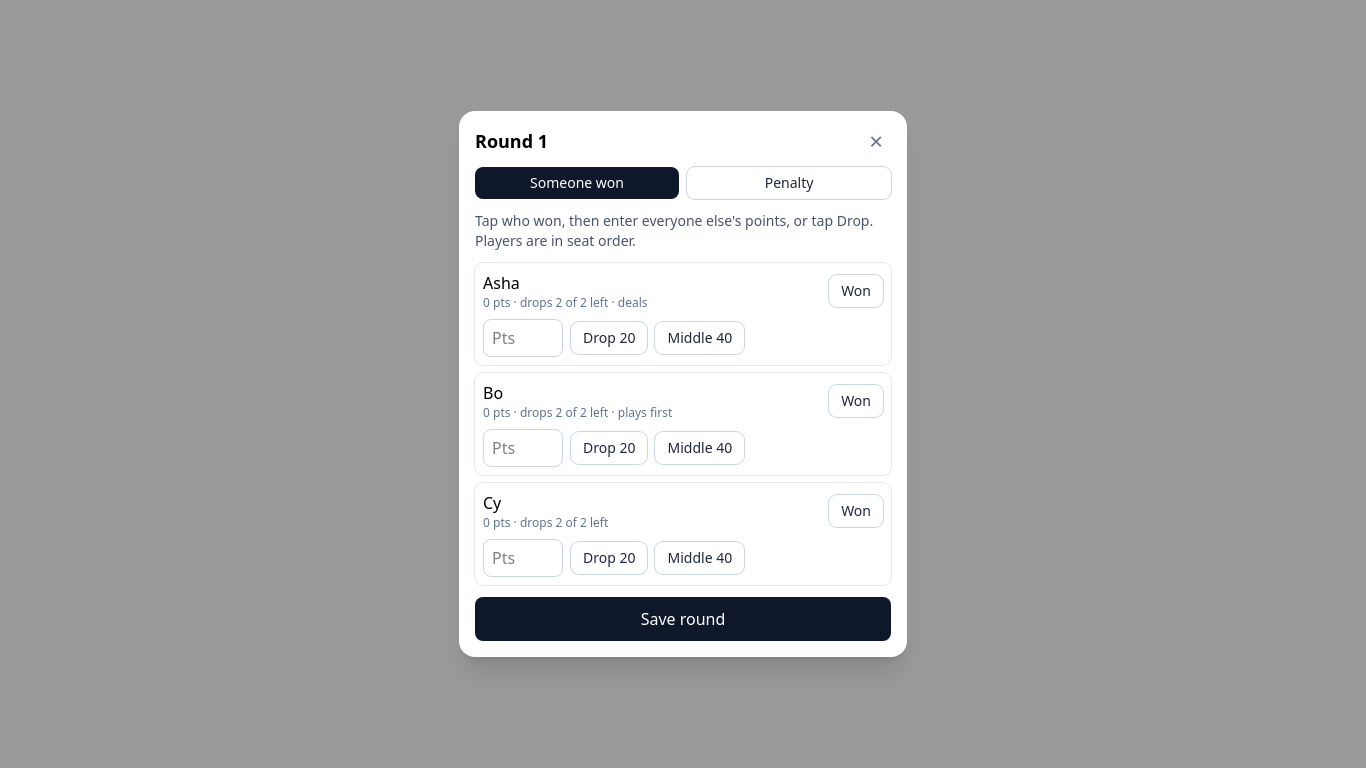
Test: RoundEntry › shows the reason when saving fails
Click the button "Won" in the row of "· deals": (856, 291) [829,275,883,307]
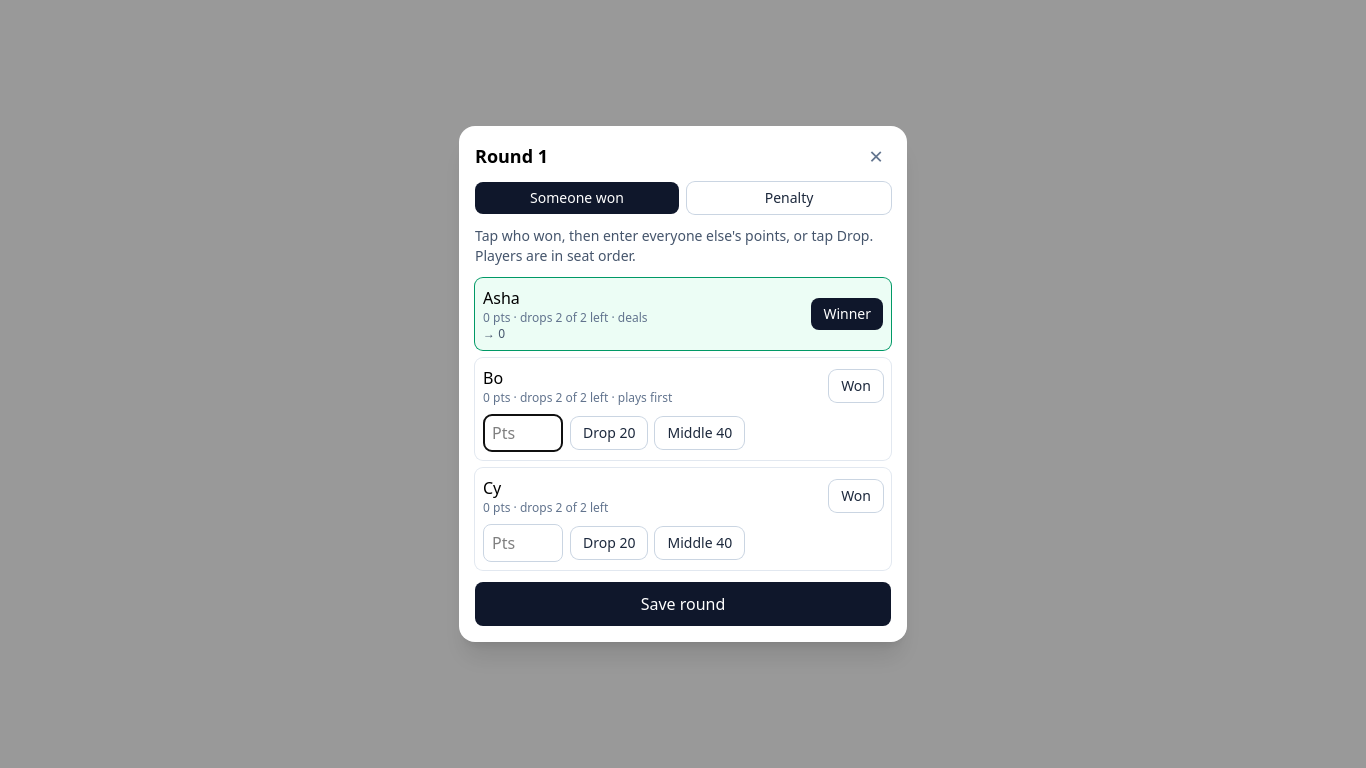
In the field named "Bo points": (523, 433) [483,414,563,452], type "10"
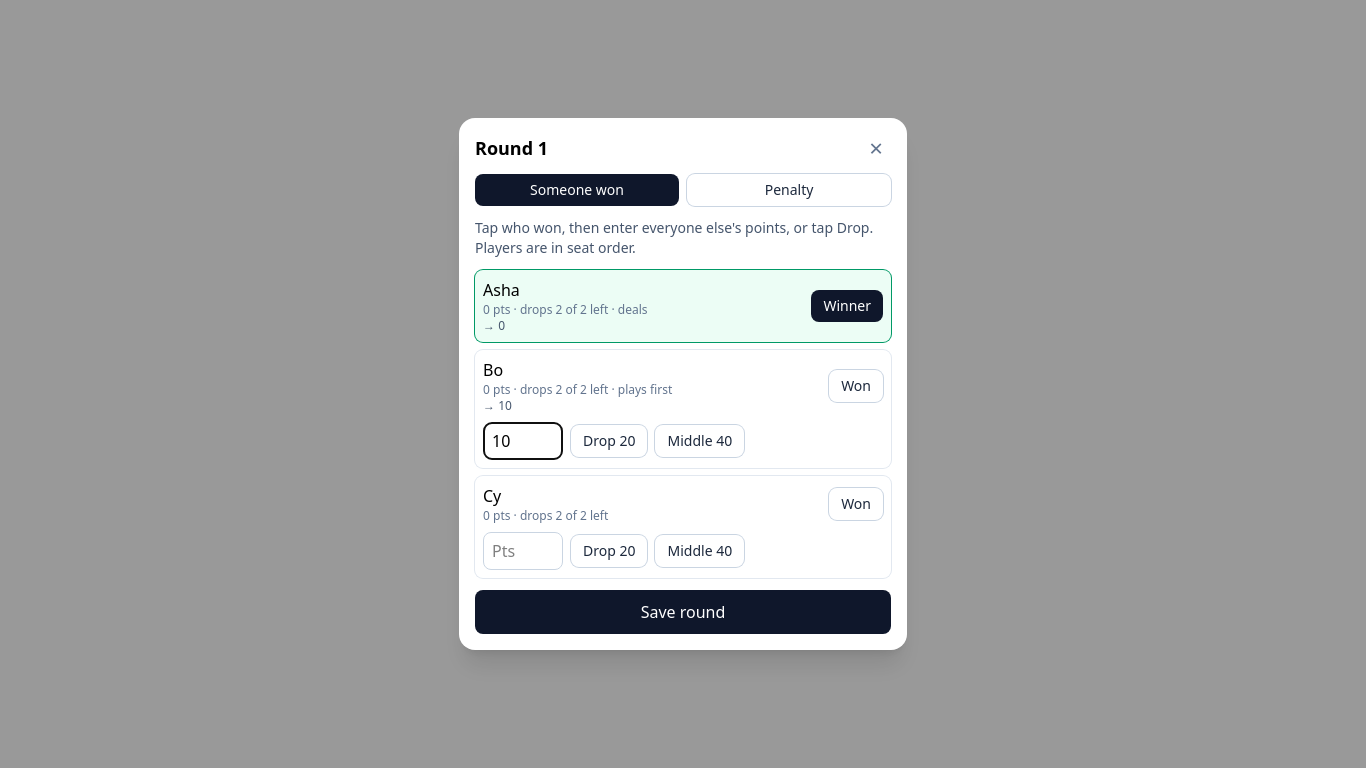
In the field named "Cy points": (523, 551) [483,532,563,570], type "10"
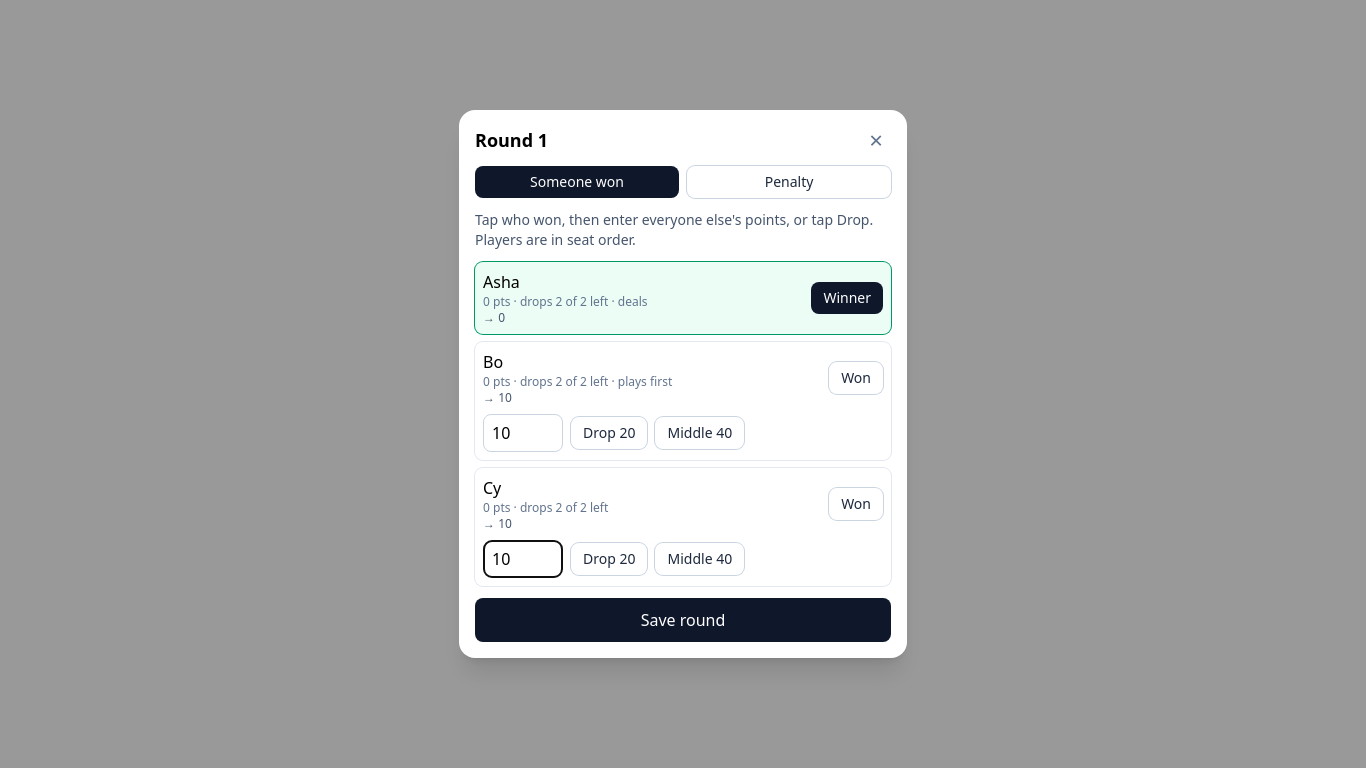
Click the button "Save round": (683, 620) [475,598,891,642]
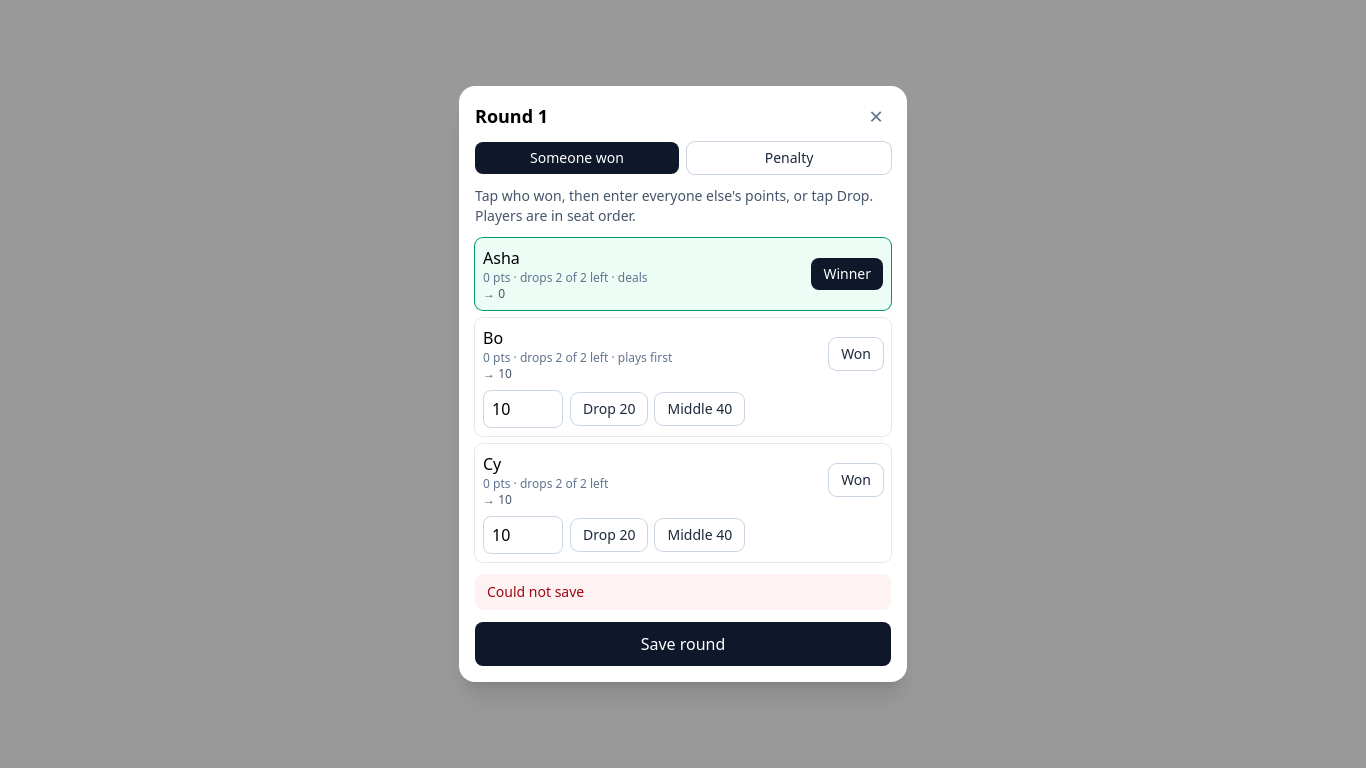
Expected: the message reads "Could not save", [487,582,584,601]
